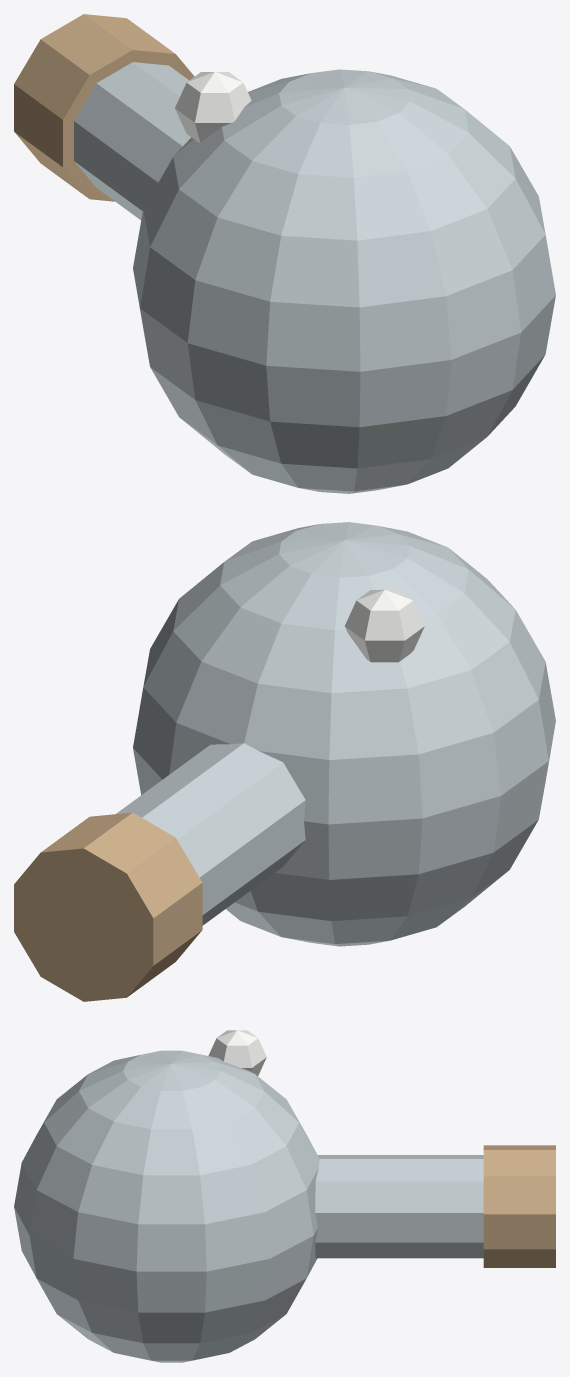
File: flask_held.gltf
3 renders of one model, top to bottom at view 1: azimuth 30°, elevation 25°; view 2: azimuth 150°, elevation 25°; view 3: azimuth 270°, elevation 25°, orthographic. The views are drawn at different scales.
Visible parts, largest first — view 1: alchemy_flask_held; view 2: alchemy_flask_held; view 3: alchemy_flask_held.
Boxes of the visible parts, x1,y1,x2,y2 form: alchemy_flask_held: (14, 14, 555, 493); alchemy_flask_held: (14, 522, 555, 1001); alchemy_flask_held: (14, 1030, 555, 1362).
Bounding box in the file's own units: 0.0936 × 0.097 × 0.165.
